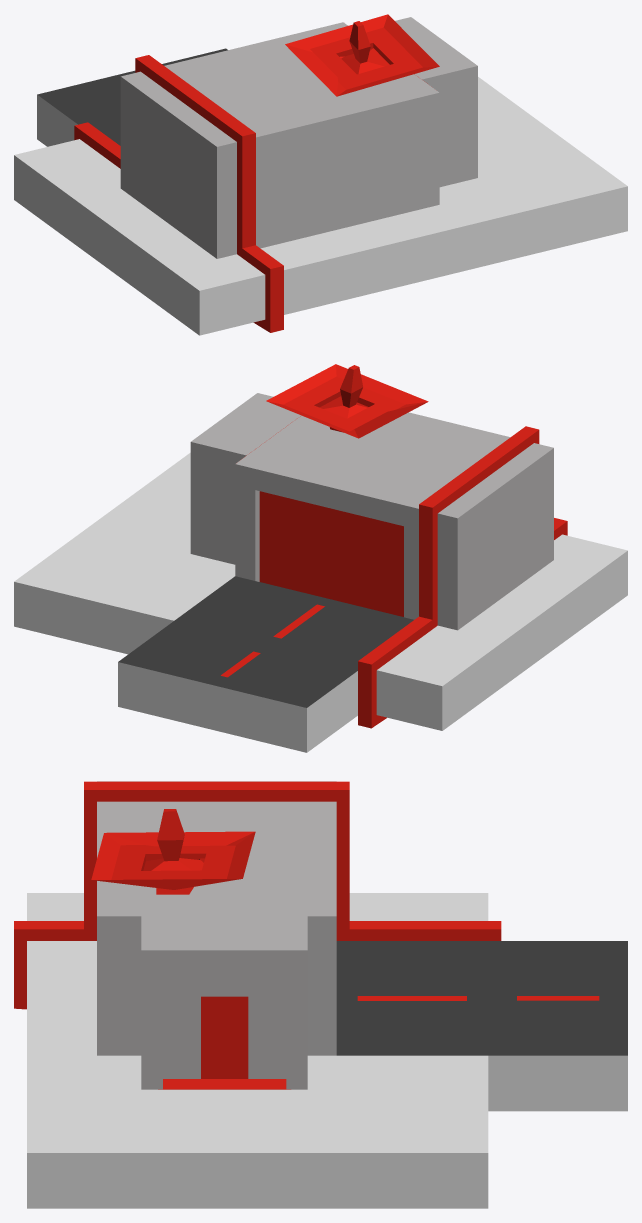
Rendered from Base-inactive.fbx.
3 views of the same model, one above another, from view 1: azimuth 30°, elevation 25°; view 2: azimuth 150°, elevation 25°; view 3: azimuth 270°, elevation 25° (orthographic). The views are drawn at different scales.
Visible parts, largest first — view 1: Base.Inactive; view 2: Base.Inactive; view 3: Base.Inactive.
Boxes of the visible parts, left/top/right/bottom form: Base.Inactive: left=14, top=14, right=627, bottom=335; Base.Inactive: left=14, top=364, right=627, bottom=752; Base.Inactive: left=14, top=781, right=627, bottom=1208.
Size of the model in its own units: 20 by 10.5 by 19.97.
